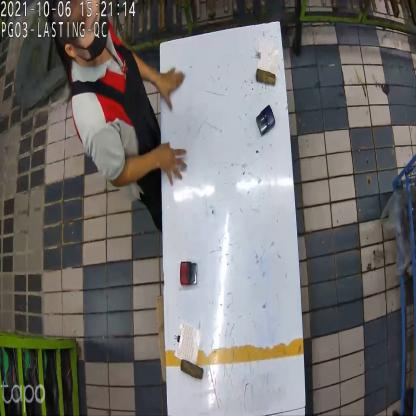stamp: (258, 103, 276, 136), (179, 258, 197, 288)
